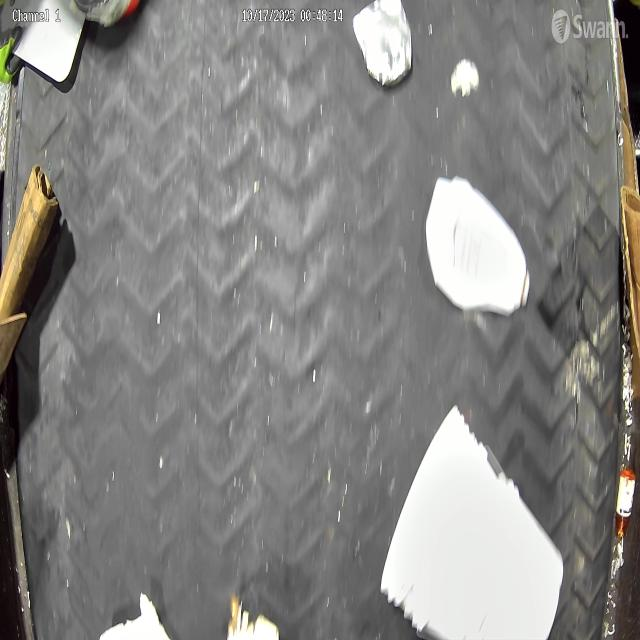can: (352, 1, 413, 90)
milk_jug: (427, 174, 532, 316)
